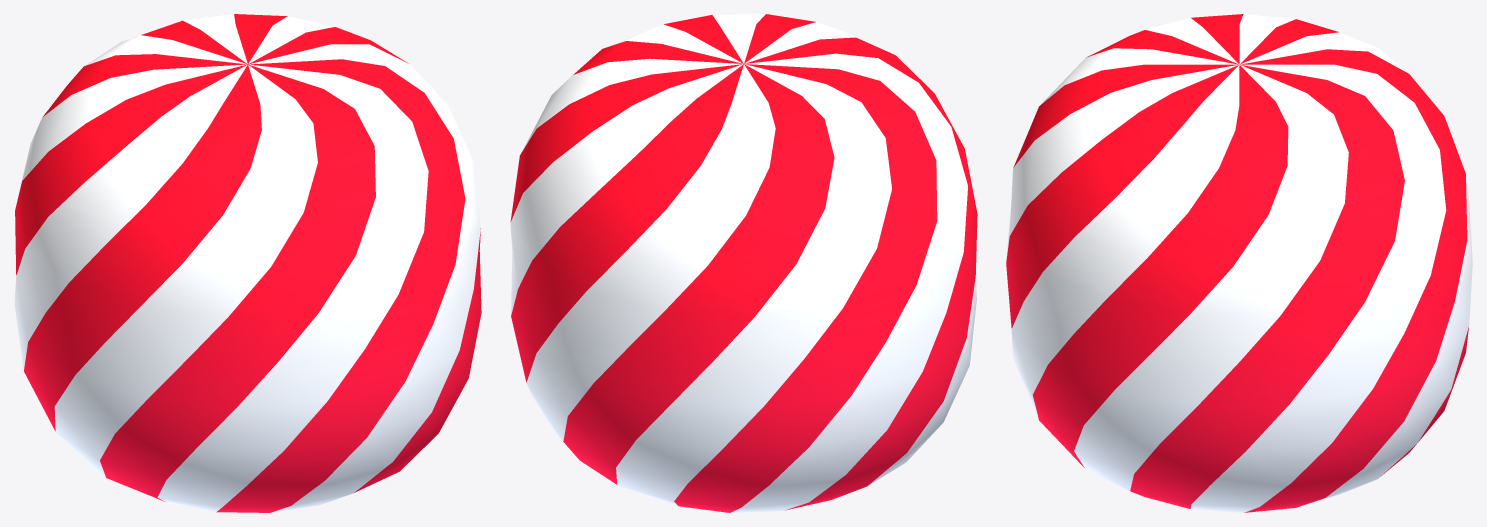
File: Lollipop_13.glb
The picture shows the model from 3 angles, left to right: view 1: azimuth 30°, elevation 25°; view 2: azimuth 150°, elevation 25°; view 3: azimuth 270°, elevation 25°; orthographic projection.
Parts seen in each view (by area): view 1: Lollipop_13; view 2: Lollipop_13; view 3: Lollipop_13.
Boxes of the visible parts, box(x1,y1,x2,y2) form: Lollipop_13: box(14, 14, 481, 512); Lollipop_13: box(510, 14, 977, 512); Lollipop_13: box(1006, 14, 1472, 512).
Size of the model in its own units: 1.76 by 1.66 by 1.76.
Materials: 1 (1 with a texture image).
